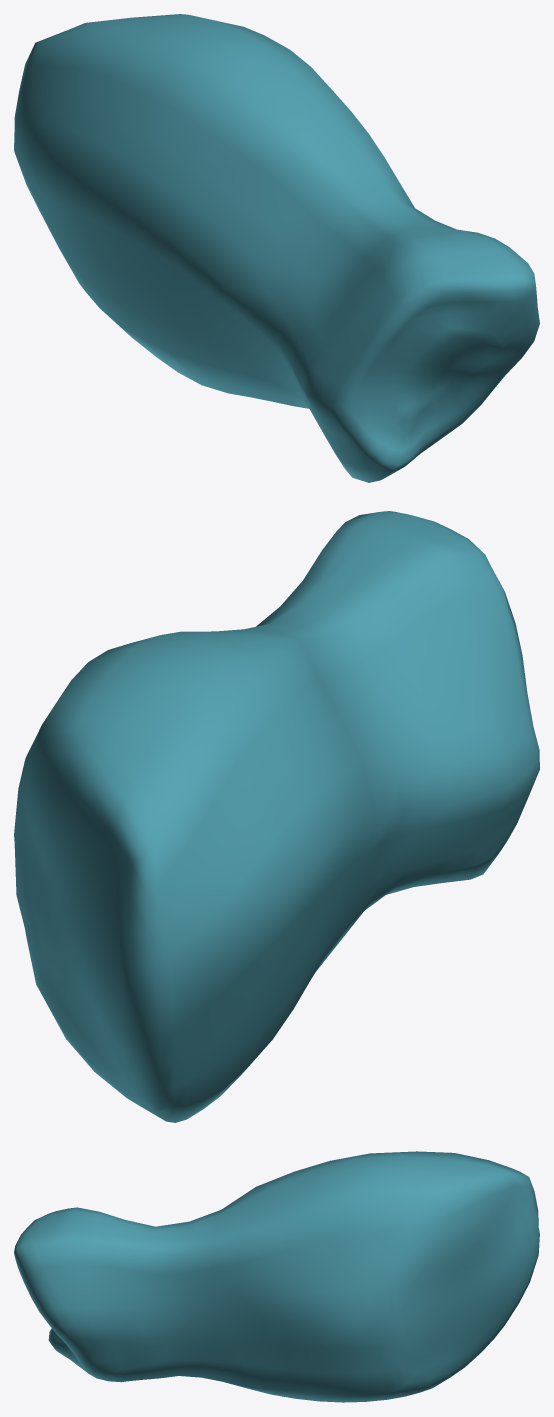
File: VIS_Alpha_Surface_008.dae
3 renders of one model, top to bottom at view 1: azimuth 30°, elevation 25°; view 2: azimuth 150°, elevation 25°; view 3: azimuth 270°, elevation 25°, orthographic. The views are drawn at different scales.
Parts seen in each view (by area): view 1: VIS_Alpha_Surface_008; view 2: VIS_Alpha_Surface_008; view 3: VIS_Alpha_Surface_008.
Boxes of the visible parts, <box> form: VIS_Alpha_Surface_008: <box>14,14,539,482</box>; VIS_Alpha_Surface_008: <box>14,511,539,1122</box>; VIS_Alpha_Surface_008: <box>14,1151,539,1402</box>.
Bounding box in the file's own units: 18.4 × 45.34 × 22.93.
